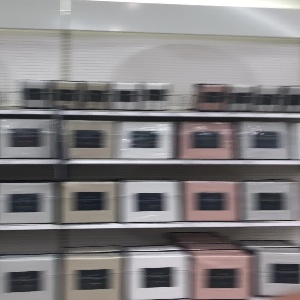void: (168, 41, 195, 111), (1, 46, 20, 108)
